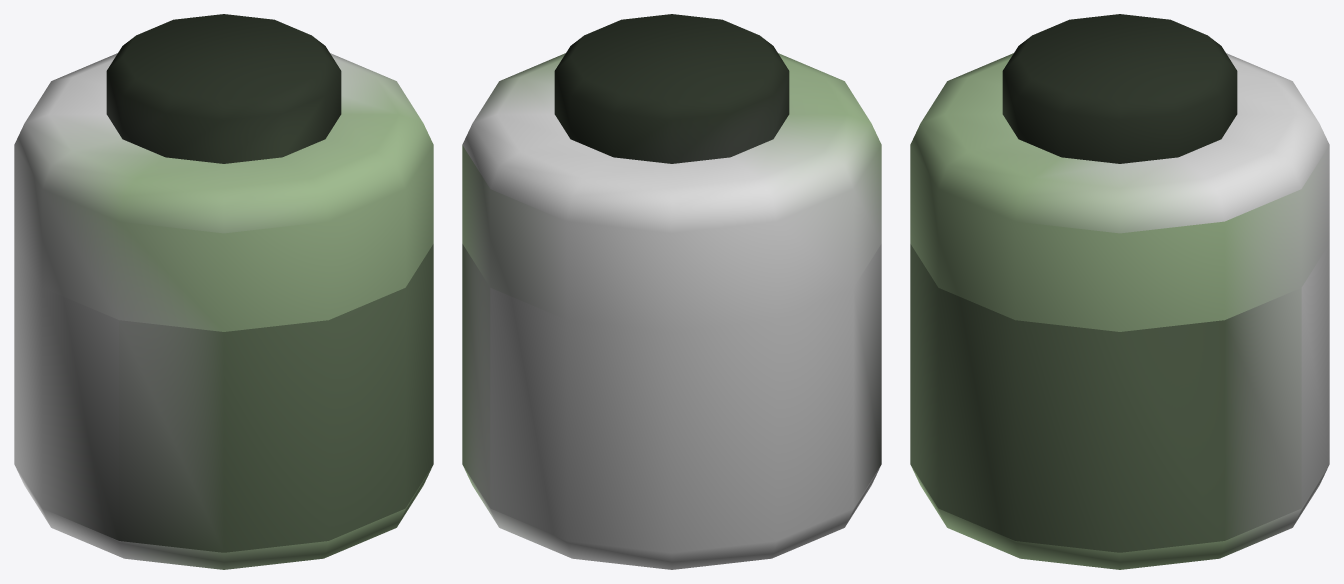
Rendered from mv_bar.fbx.
3 views of the same model, side by side, from view 1: azimuth 30°, elevation 25°; view 2: azimuth 150°, elevation 25°; view 3: azimuth 270°, elevation 25° (orthographic).
Visible parts, largest first — view 1: mov_bank_01; view 2: mov_bank_01; view 3: mov_bank_01.
Boxes of the visible parts, x1=… form: mov_bank_01: x1=14, y1=14, x2=433, y2=569; mov_bank_01: x1=462, y1=14, x2=881, y2=569; mov_bank_01: x1=910, y1=14, x2=1329, y2=569.
Bounding box in the file's own units: 0.1201 × 0.1201 × 0.1383.
